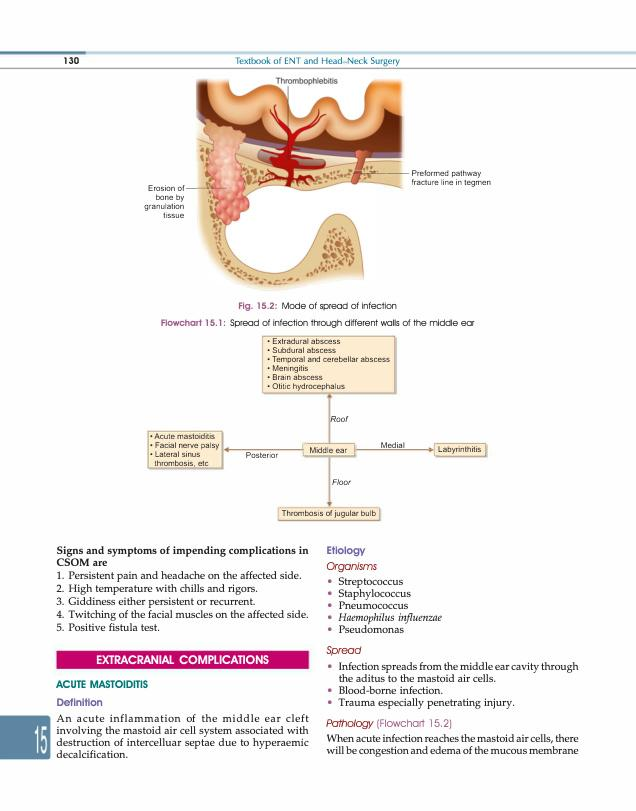caption: (159, 317, 476, 330), (237, 299, 398, 312)
header: (233, 55, 401, 67)
image: (133, 73, 500, 297), (143, 332, 492, 526)
list: (55, 569, 310, 632), (326, 660, 580, 710), (326, 575, 444, 636)
section-heading: (95, 653, 271, 666), (54, 679, 150, 690)
sub-section-heading: (55, 545, 309, 568), (326, 560, 379, 573), (324, 718, 375, 730), (55, 696, 104, 707), (326, 544, 366, 557), (324, 644, 363, 656)
text: (53, 712, 312, 760), (325, 732, 580, 758)
